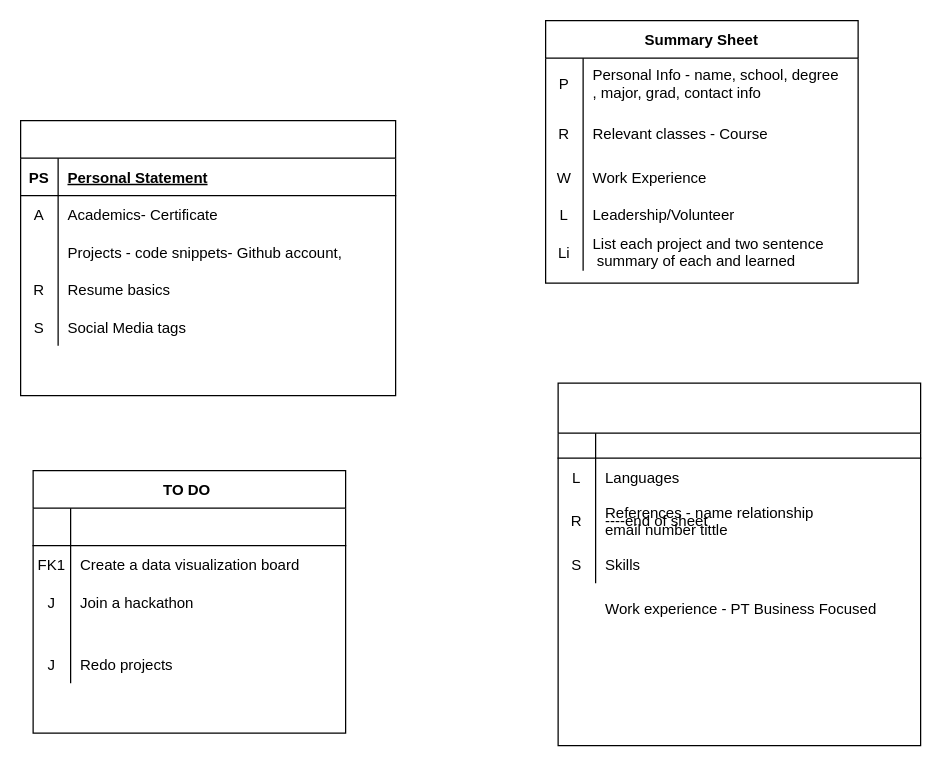
Some shapes in this 941 by 766 pixel diagram are drawn without their labels. Each missing label, with the box of its shape:
Experience: (557, 382, 921, 746)
Resume - One Page: (19, 119, 396, 396)
